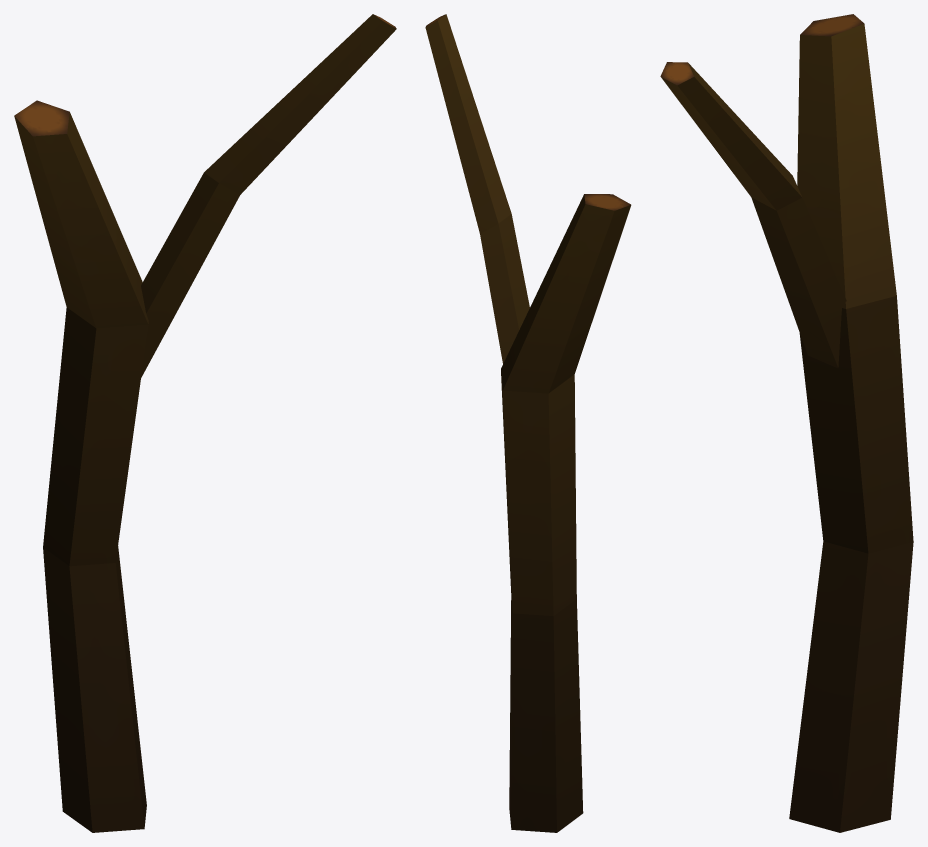
The model's file is Stick_D.fbx.
The picture shows the model from 3 angles, left to right: view 1: azimuth 30°, elevation 25°; view 2: azimuth 150°, elevation 25°; view 3: azimuth 270°, elevation 25°; orthographic projection. The views are drawn at different scales.
Parts seen in each view (by area): view 1: Stick_D; view 2: Stick_D; view 3: Stick_D.
Boxes of the visible parts, bbox=[...] form: Stick_D: bbox=[14, 14, 396, 832]; Stick_D: bbox=[425, 14, 631, 832]; Stick_D: bbox=[660, 14, 913, 832].
Bounding box in the file's own units: 15.87 × 41.08 × 11.08.
